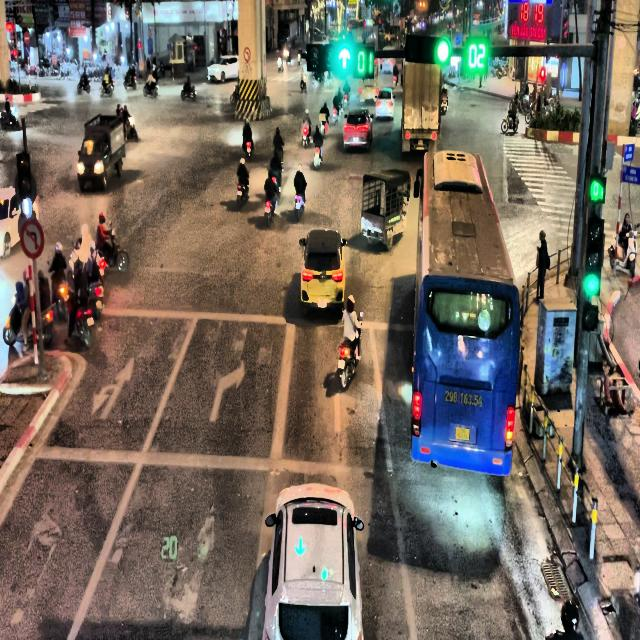BUS: (410, 149, 520, 476)
CAR: (260, 482, 364, 640), (299, 228, 347, 314), (343, 108, 373, 152), (207, 54, 239, 83), (375, 87, 395, 120)
MOTORBIKE: (2, 280, 54, 348), (337, 312, 363, 388), (99, 228, 129, 272), (265, 192, 278, 228), (501, 112, 519, 134), (237, 179, 249, 209), (294, 190, 305, 221), (77, 72, 90, 94), (123, 70, 137, 89), (143, 81, 159, 97), (181, 84, 196, 100), (313, 144, 322, 169), (100, 80, 113, 97), (243, 137, 253, 159), (302, 124, 311, 147), (274, 146, 283, 166), (230, 86, 238, 104), (300, 72, 307, 91)
